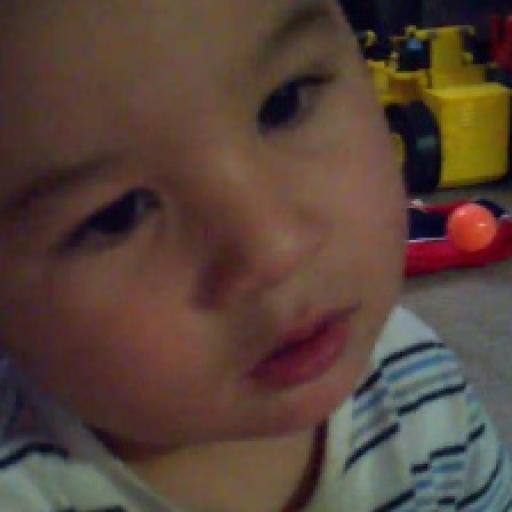Autism: (32, 8, 454, 462)
